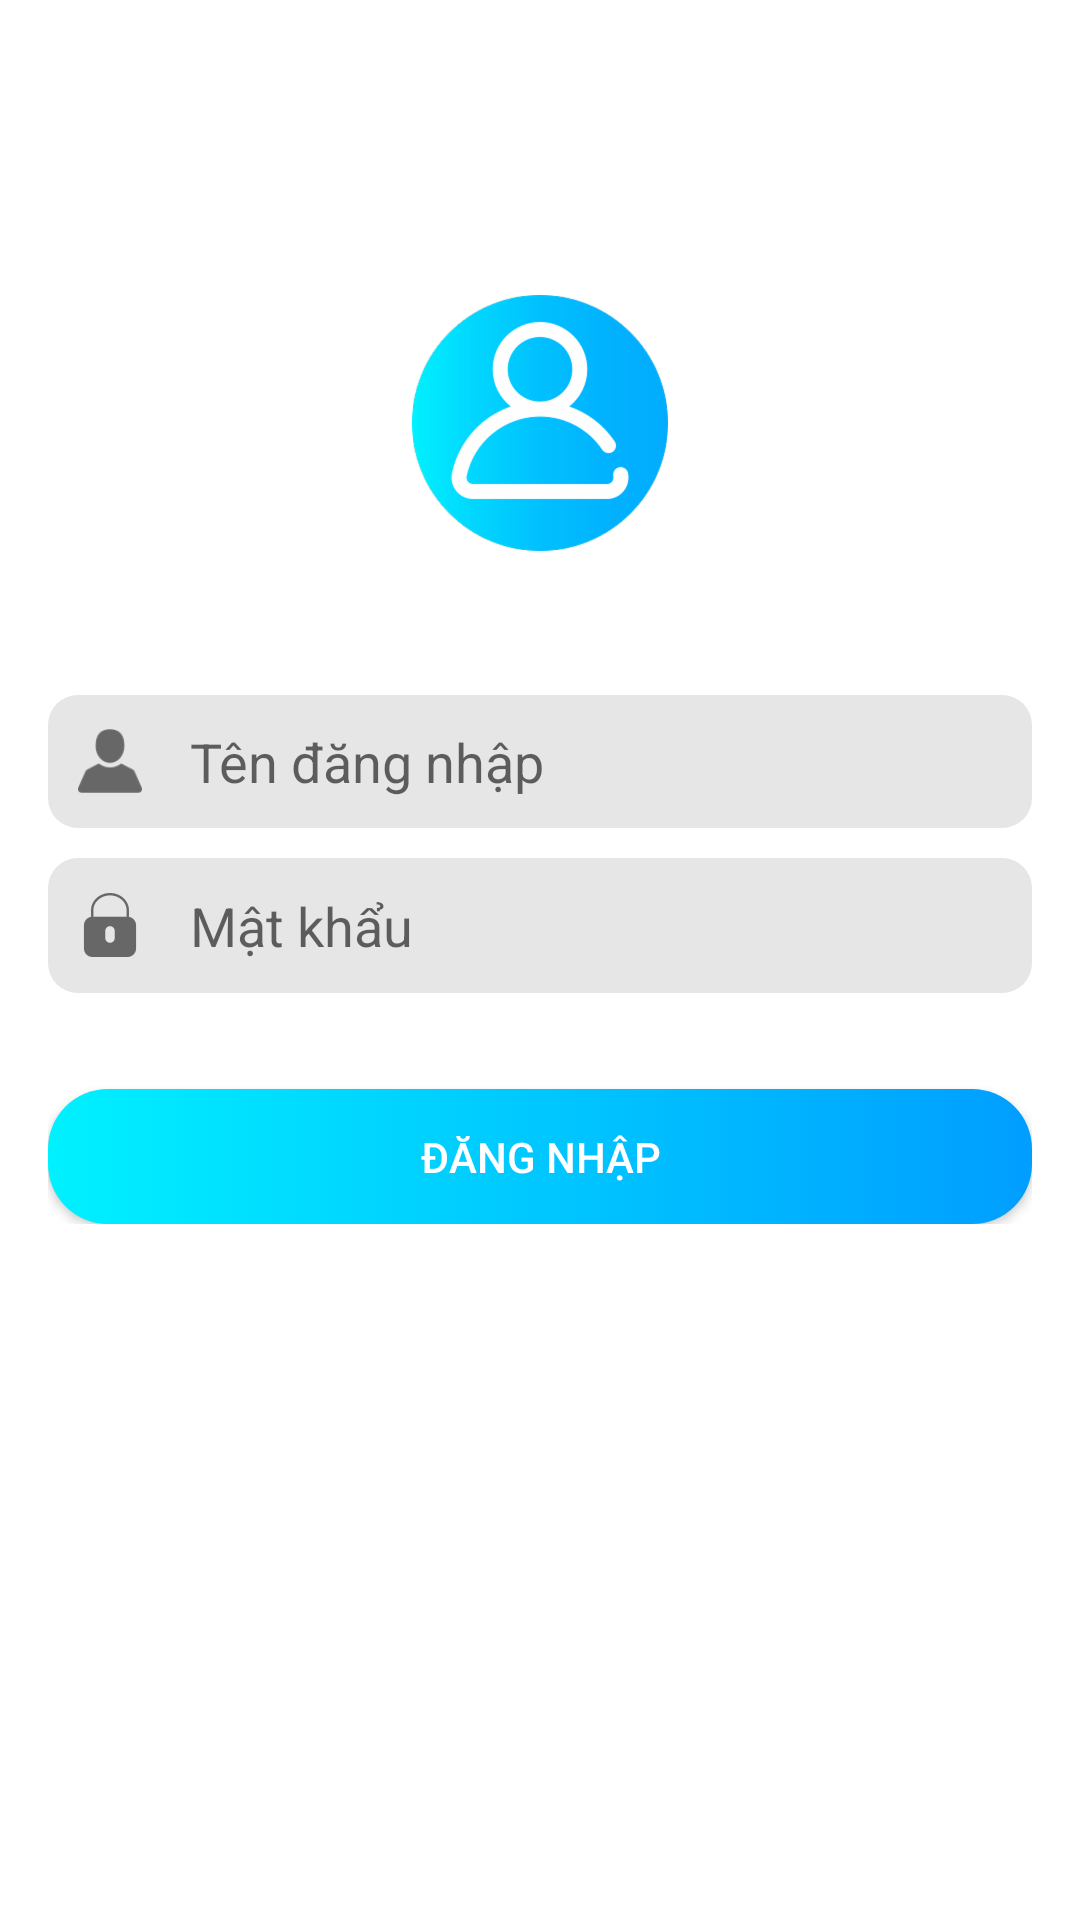

Named icons in this screenshot (1080 × 1920) and their bounding boxes, (x1, y1, x2, y2):
user login: (412, 295, 668, 551)
